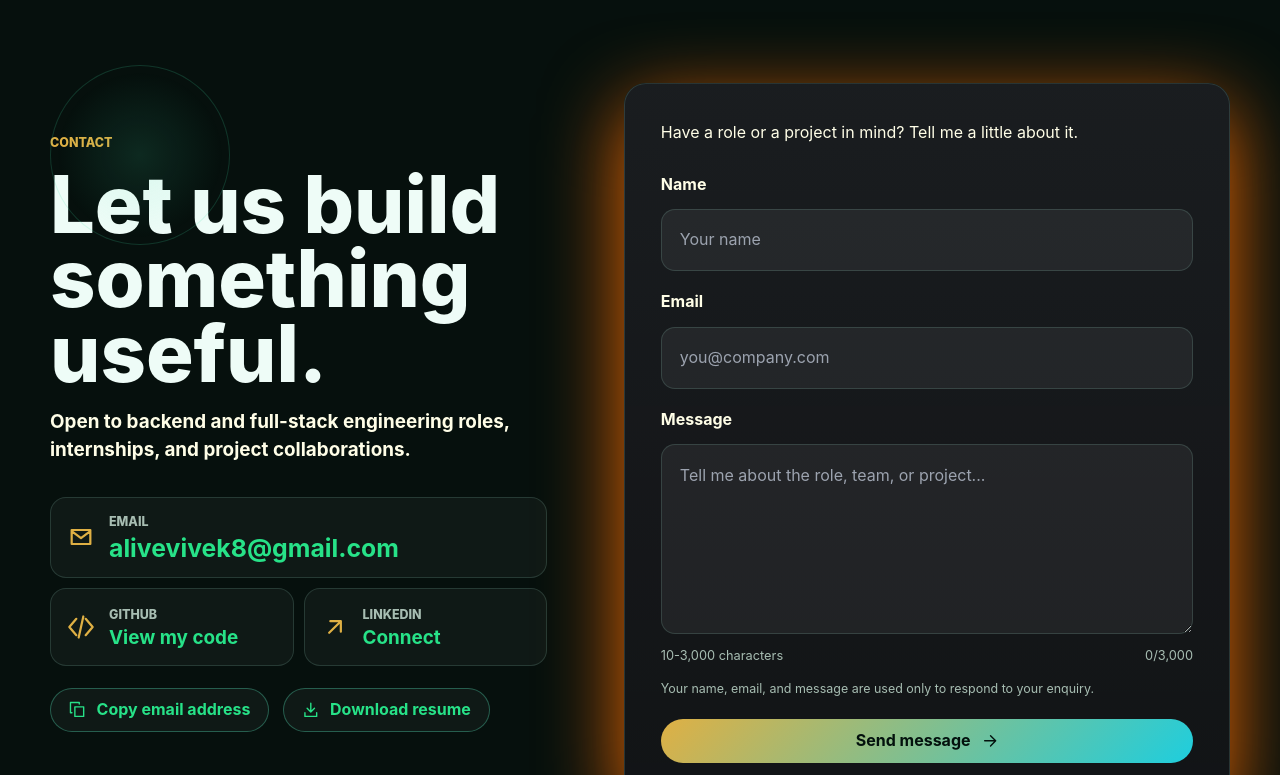
shows backend field feedback and a direct email path
This screenshot has width=1280, height=775.
Type "  Hiring Manager  " into the field labelled "Name" at (927, 240), box [661,209,1193,271]
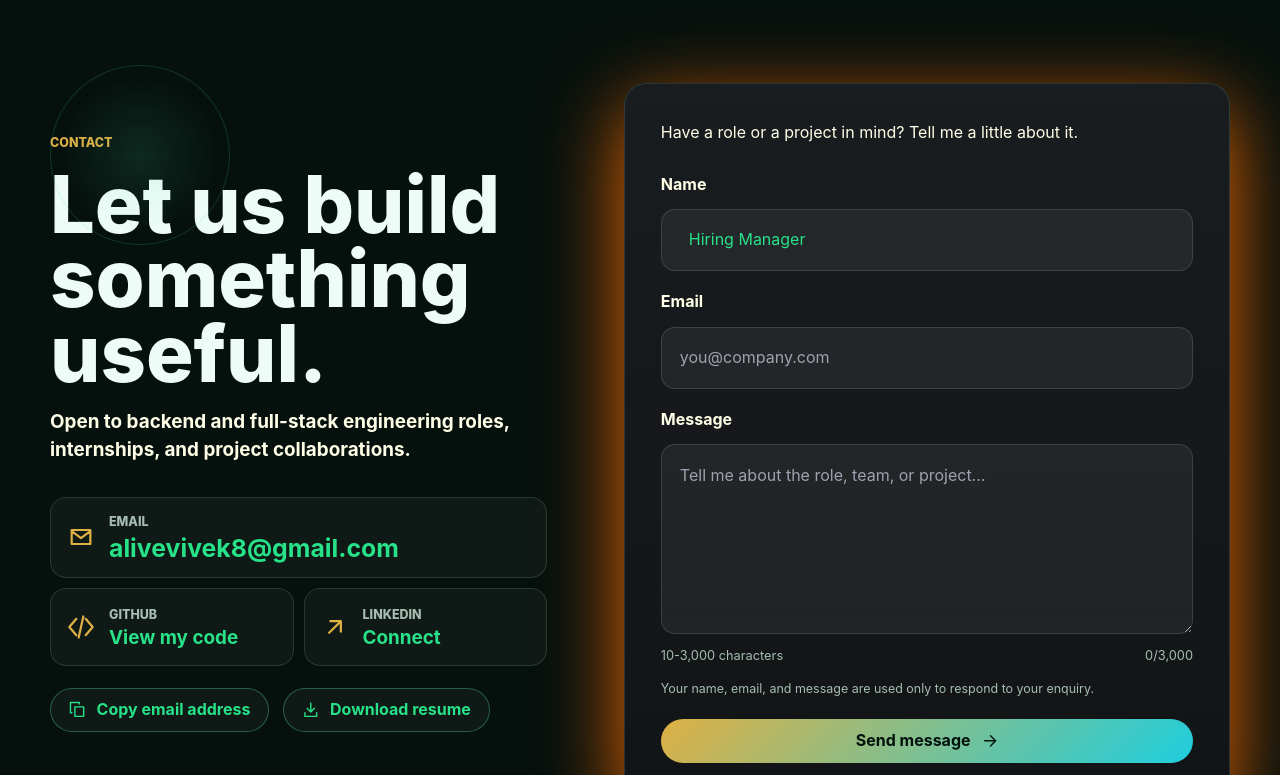
Type "HIRING@example.com" into the field labelled "Email" at (927, 358), box [661,327,1193,389]
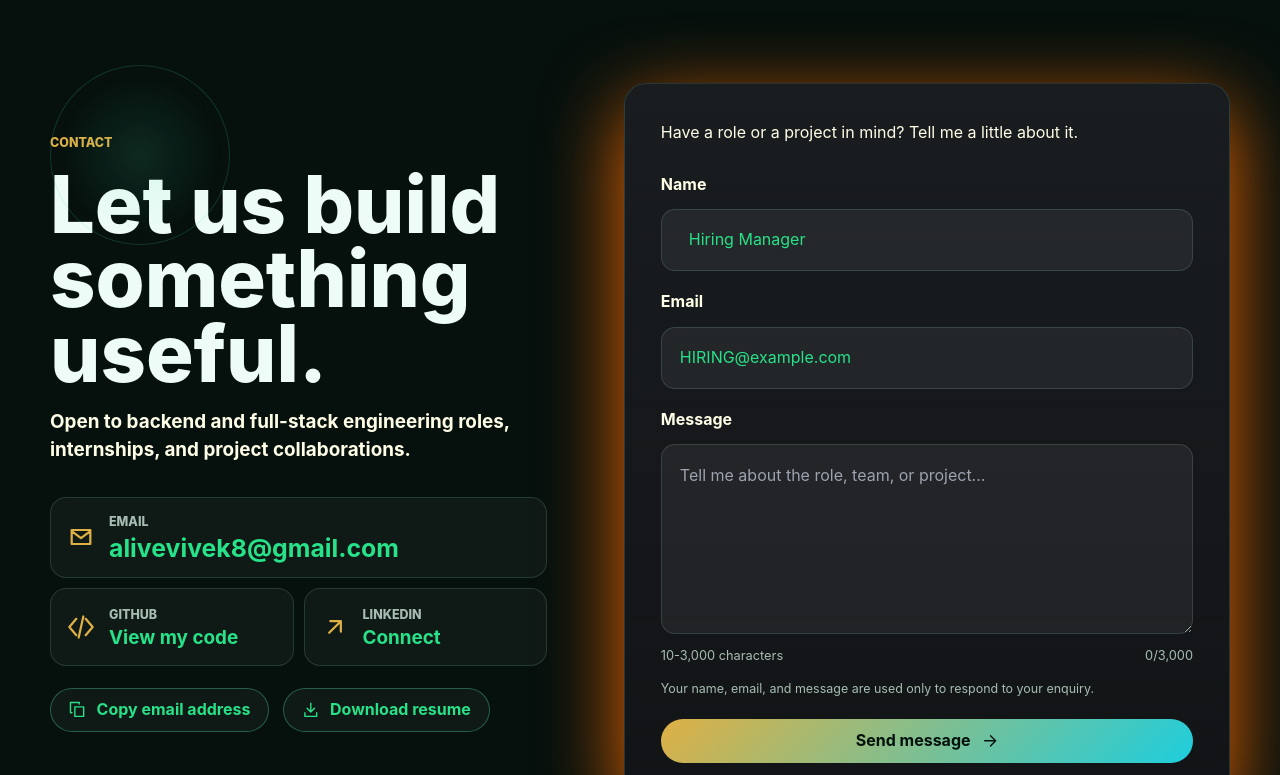
Type "We would like to discuss a backend role." into the text box labelled "Message" at (927, 539), box [661,444,1193,634]
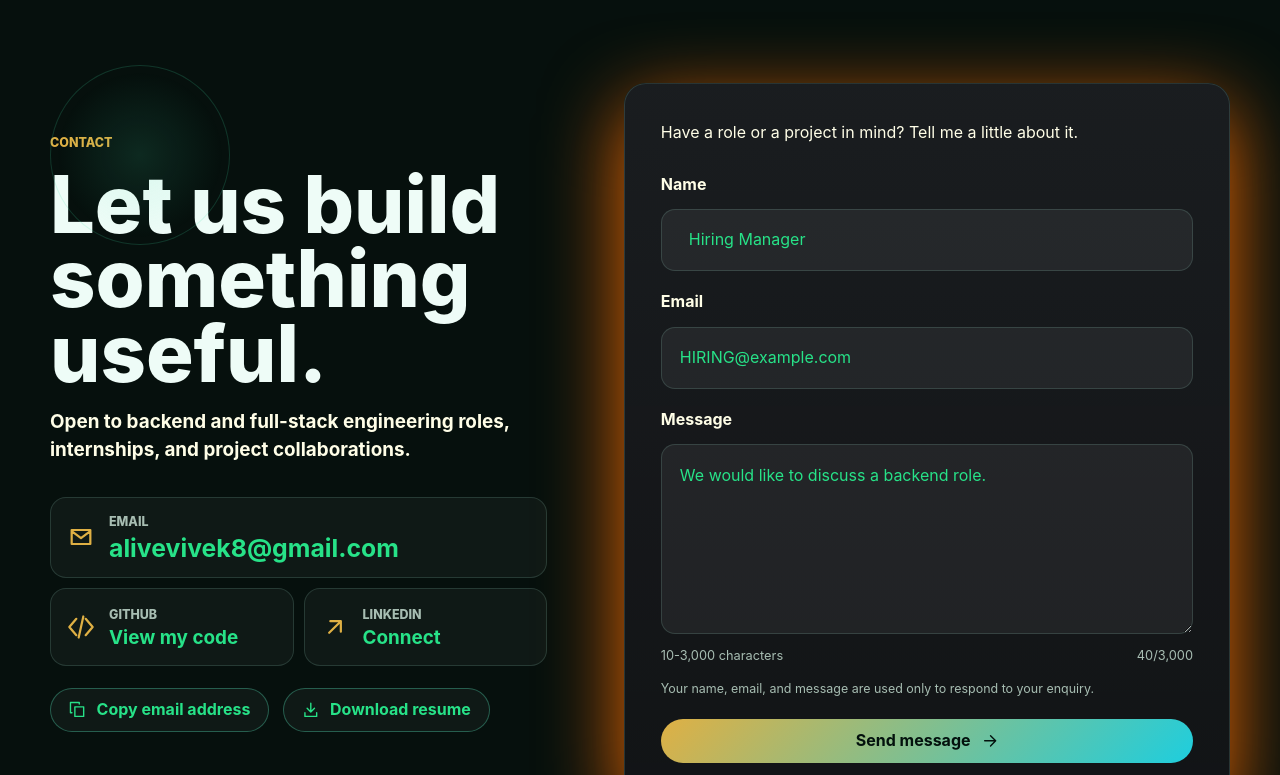
Click the button "Send message" at (927, 741), box [661,719,1193,763]
(page scrolled)
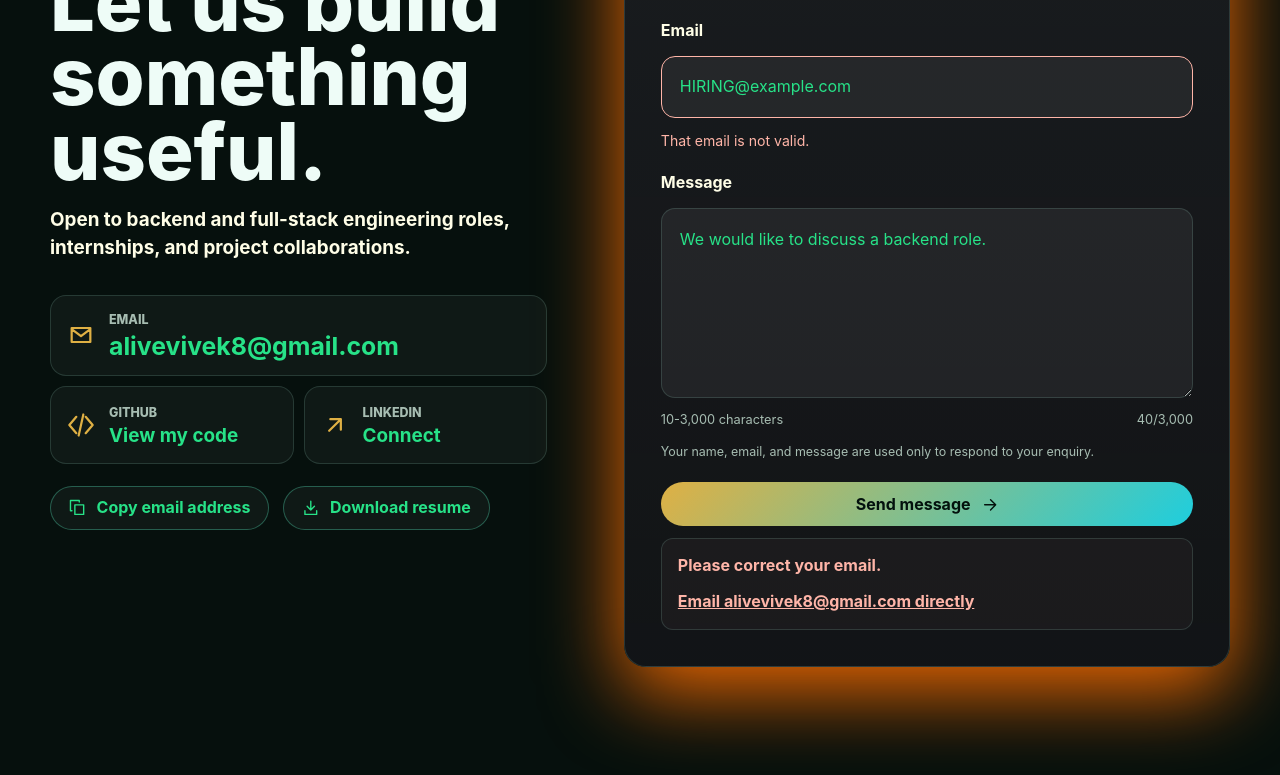
Result: the message "Please correct your email. Email alivevivek8@gmail.com directly" is shown at [661,538,1193,630]
